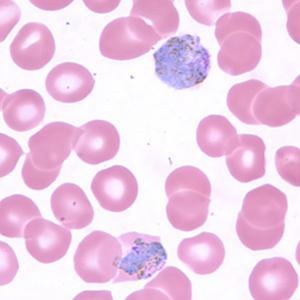Infected: (132, 16, 202, 67), (89, 210, 147, 266)
Uninfected: (139, 239, 201, 284), (177, 17, 226, 70), (220, 129, 271, 178), (244, 228, 289, 278), (161, 87, 208, 134), (75, 24, 124, 69), (0, 0, 50, 42), (205, 196, 255, 238), (13, 70, 59, 115), (229, 37, 275, 81), (1, 172, 47, 216), (33, 116, 74, 165), (180, 135, 224, 180), (38, 225, 82, 270), (207, 70, 250, 116), (254, 168, 297, 211), (258, 62, 300, 106), (15, 49, 63, 87), (34, 174, 73, 220), (60, 142, 102, 184), (90, 69, 133, 110), (121, 263, 169, 298), (90, 98, 134, 134), (38, 254, 84, 288), (238, 109, 278, 145), (109, 0, 152, 33), (70, 276, 115, 299), (0, 113, 25, 154)
